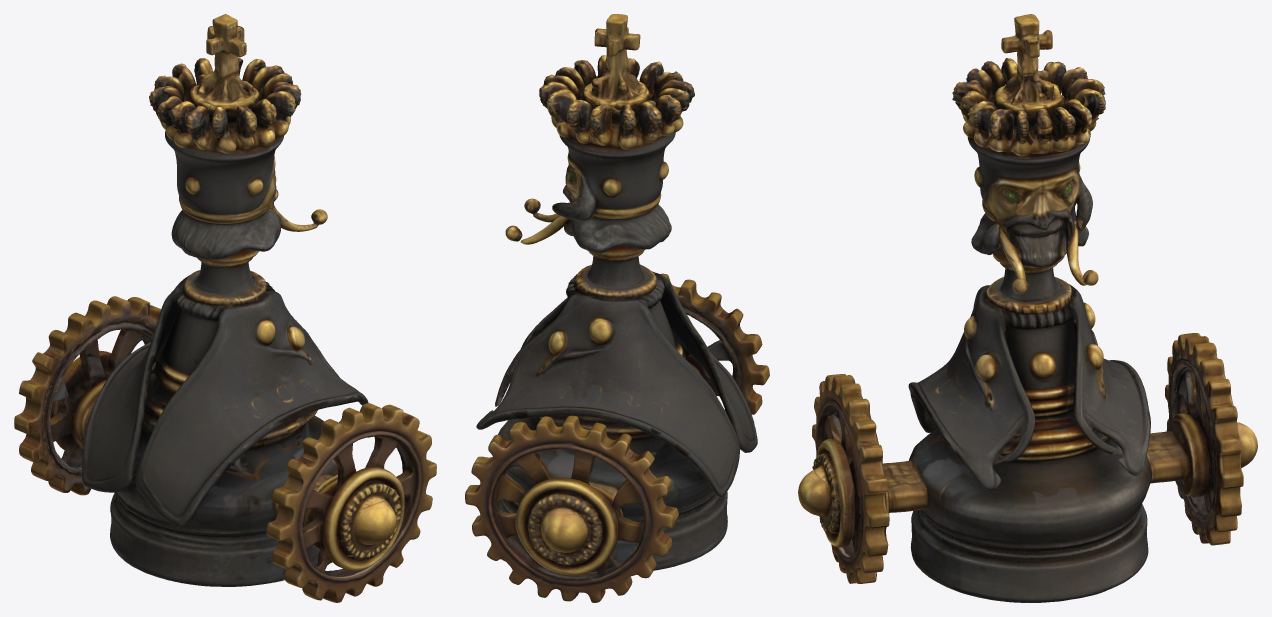
File: king.glb
The picture shows the model from 3 angles, left to right: view 1: azimuth 30°, elevation 25°; view 2: azimuth 150°, elevation 25°; view 3: azimuth 270°, elevation 25°; orthographic projection. The views are drawn at different scales.
Visible parts, largest first — view 1: Object_4, Object_5, Object_6, Object_7; view 2: Object_5, Object_6, Object_4, Object_7; view 3: Object_4, Object_6, Object_5, Object_7.
Part boxes in pixels (box(x1,y1,x2,y2)): Object_4: box(19, 14, 432, 600); Object_5: box(14, 38, 436, 587); Object_6: box(32, 15, 418, 602); Object_7: box(14, 18, 432, 596); Object_5: box(465, 26, 762, 601); Object_6: box(472, 14, 769, 602); Object_4: box(470, 18, 769, 600); Object_7: box(465, 14, 767, 597); Object_4: box(798, 16, 1257, 602); Object_6: box(802, 14, 1254, 602); Object_5: box(812, 36, 1247, 594); Object_7: box(802, 14, 1255, 600).
Bounding box in the file's own units: 1.09 × 2 × 1.57.
Materials: 1 (1 with a texture image).
